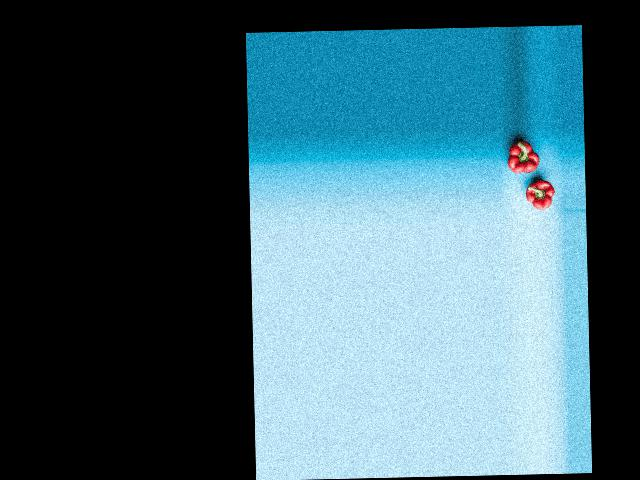bell_pepper: (507, 136, 543, 179)
